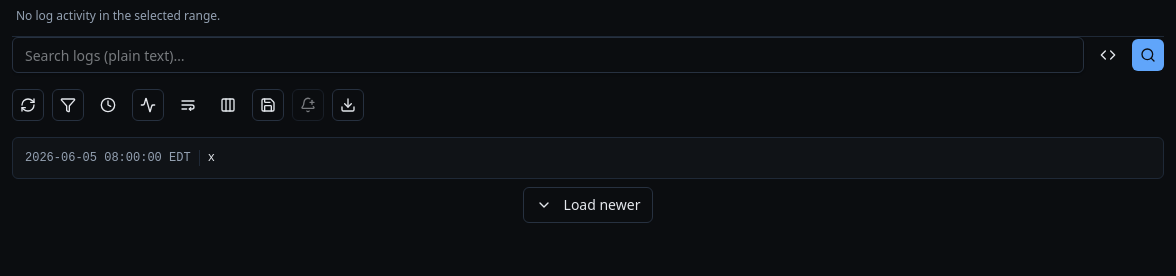
Test: LogsExplorerPage › shows an alert when fetchNewerLogs rejects
Check: the field with test id "logs-search-input" is shown, box [12,37,1084,73]
Click the button with test id "load-newer": (588, 205) [523,187,654,223]
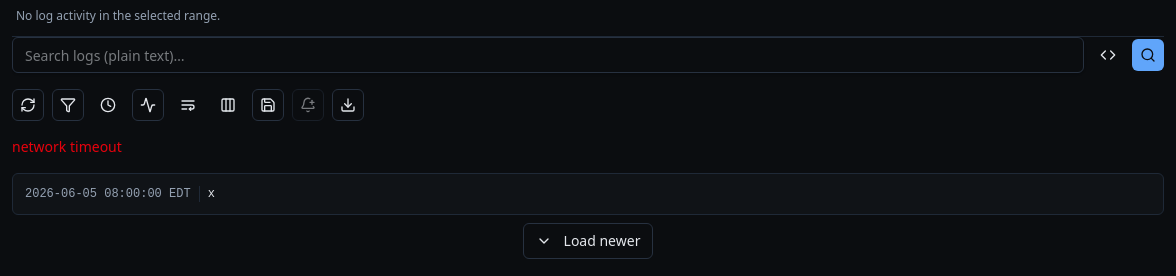
Check: the message reads "network timeout", box [12,137,122,156]
